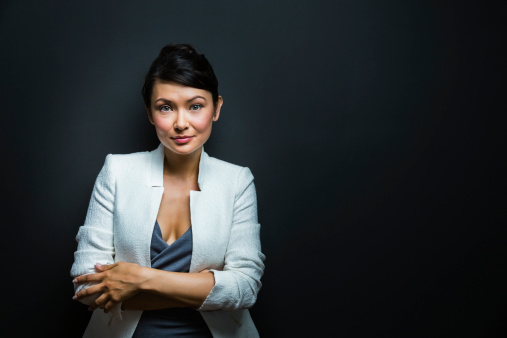em pe: (65, 49, 289, 338)
